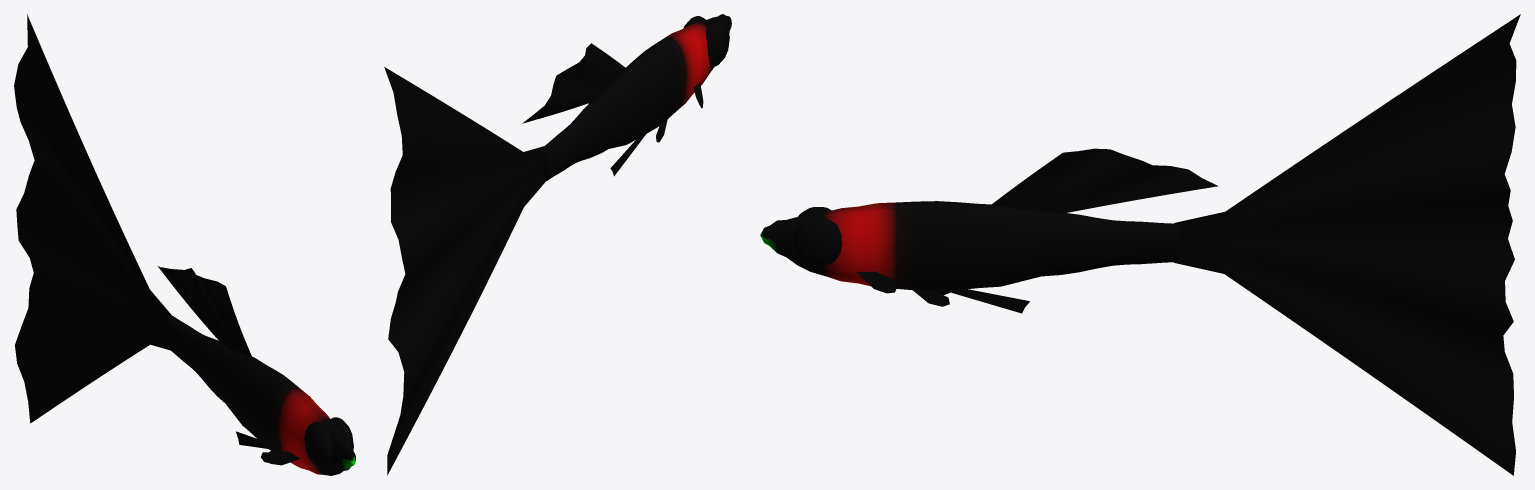
The model's file is guppy.glb.
3 renders of one model, left to right at view 1: azimuth 30°, elevation 25°; view 2: azimuth 150°, elevation 25°; view 3: azimuth 270°, elevation 25°, orthographic. The views are drawn at different scales.
Visible parts, largest first — view 1: guppym_caudal, guppym_body, guppym_dorsal, guppym_eyeL, guppym_pectoralL; view 2: guppym_caudal, guppym_body, guppym_dorsal, guppym_eyeL; view 3: guppym_caudal, guppym_body, guppym_dorsal, guppym_eyeR, guppym_anal.
Boxes of the visible parts, bbox=[...] form: guppym_caudal: bbox=[14, 14, 172, 423]; guppym_body: bbox=[163, 315, 355, 475]; guppym_dorsal: bbox=[158, 266, 253, 359]; guppym_eyeL: bbox=[304, 422, 332, 467]; guppym_pectoralL: bbox=[264, 450, 300, 465]; guppym_caudal: bbox=[384, 67, 546, 475]; guppym_body: bbox=[544, 14, 731, 181]; guppym_dorsal: bbox=[522, 43, 627, 123]; guppym_eyeL: bbox=[706, 20, 729, 67]; guppym_caudal: bbox=[1174, 14, 1520, 475]; guppym_body: bbox=[760, 201, 1179, 291]; guppym_dorsal: bbox=[990, 148, 1218, 213]; guppym_eyeR: bbox=[792, 217, 842, 266]; guppym_anal: bbox=[946, 289, 1029, 313].
Bounding box in the file's own units: 0.1923 × 1.22 × 1.82.
